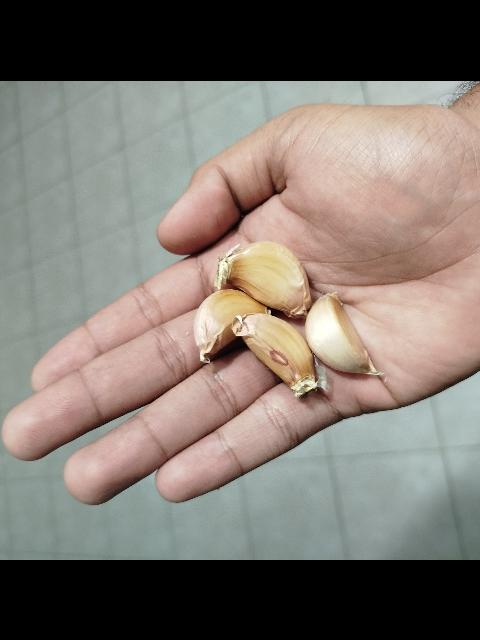garlic: (231, 310, 325, 398), (214, 240, 312, 318), (304, 290, 386, 376), (193, 288, 271, 362)
